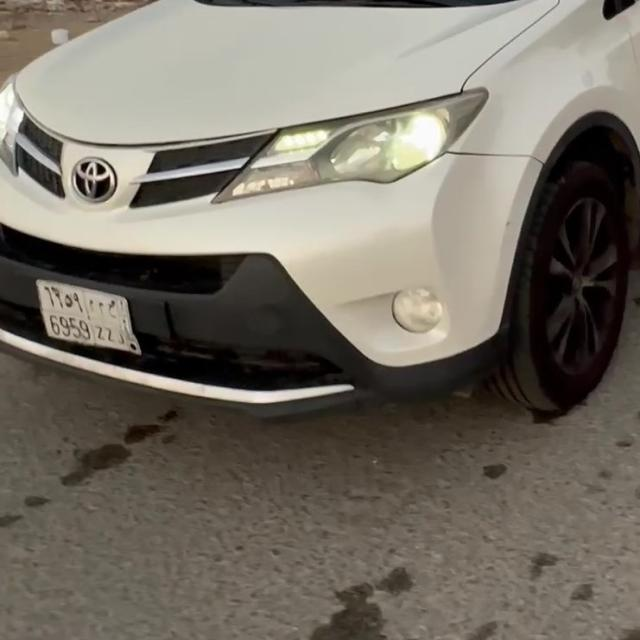Car-plate: (28, 265, 149, 364)
